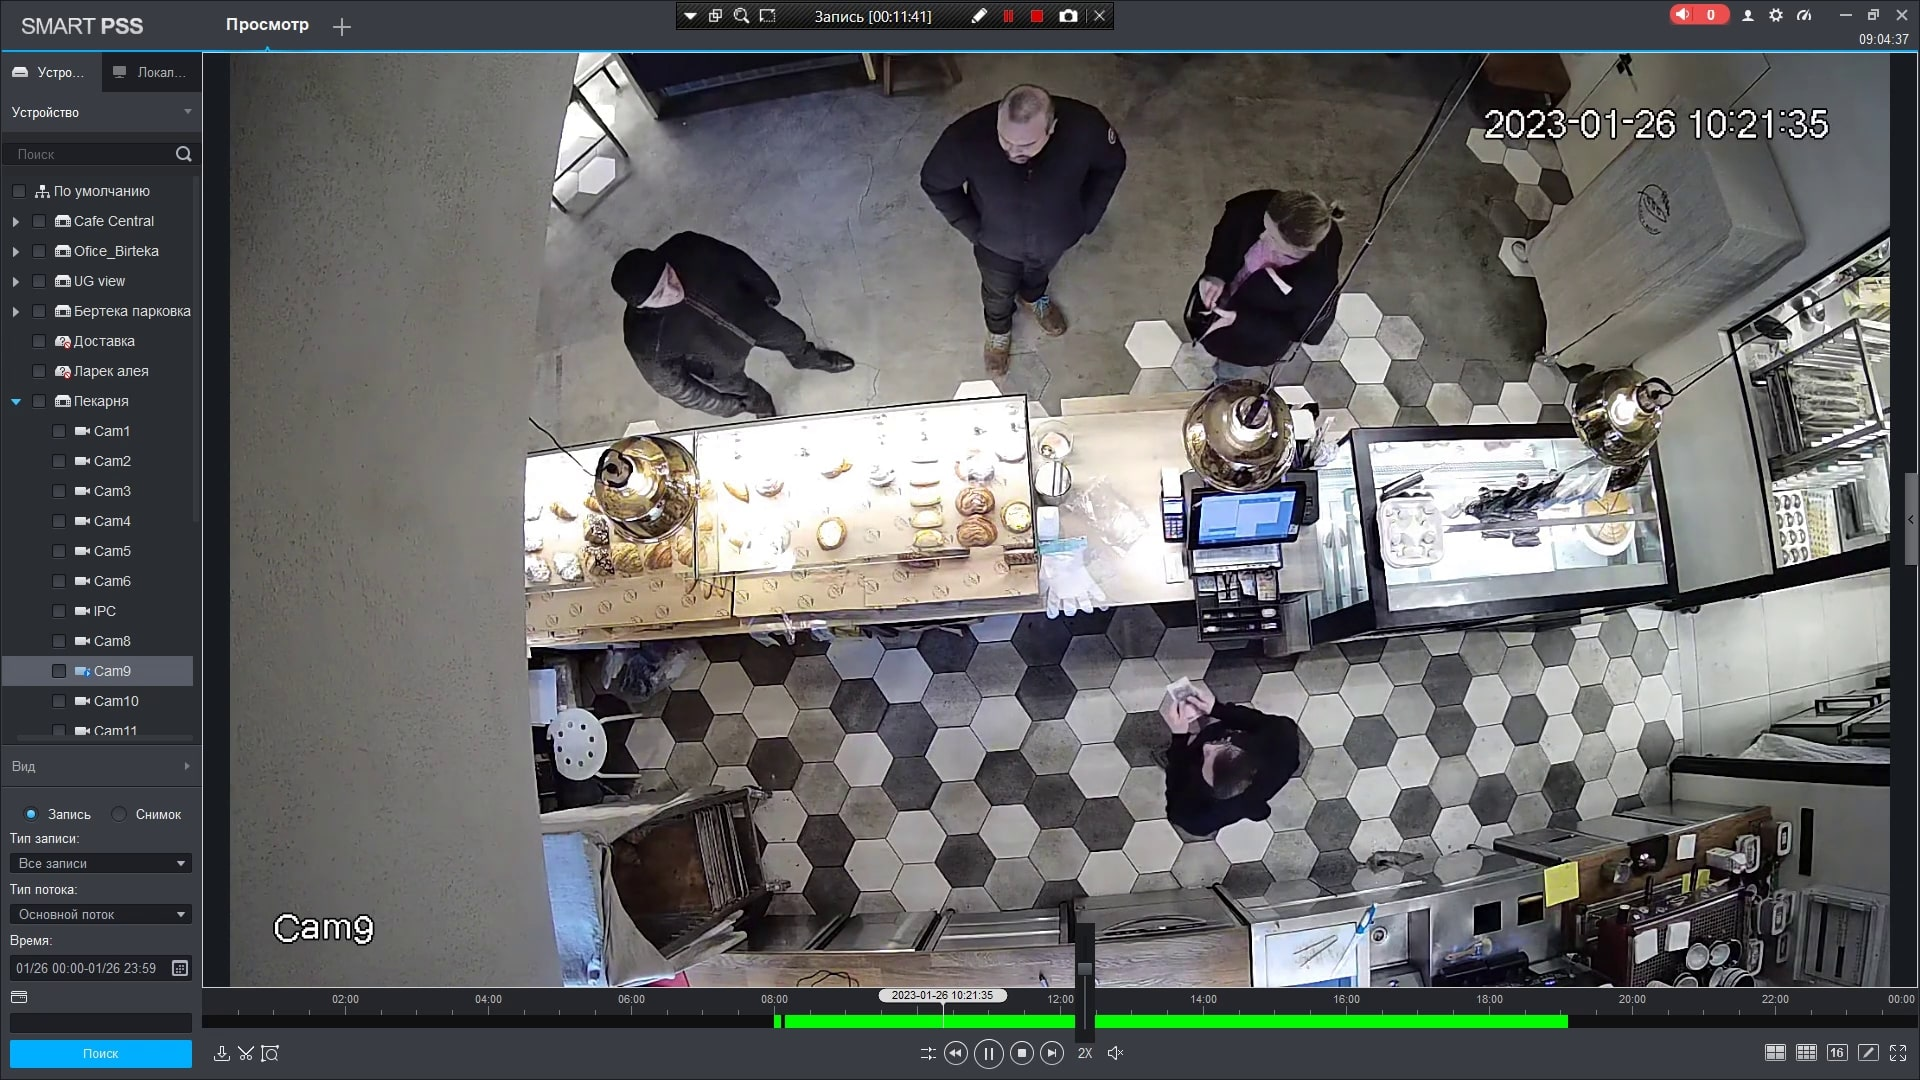openedcash: (1188, 482, 1312, 650)
person: (908, 85, 1129, 382), (608, 233, 859, 419), (1173, 155, 1359, 380), (1129, 672, 1329, 846)
